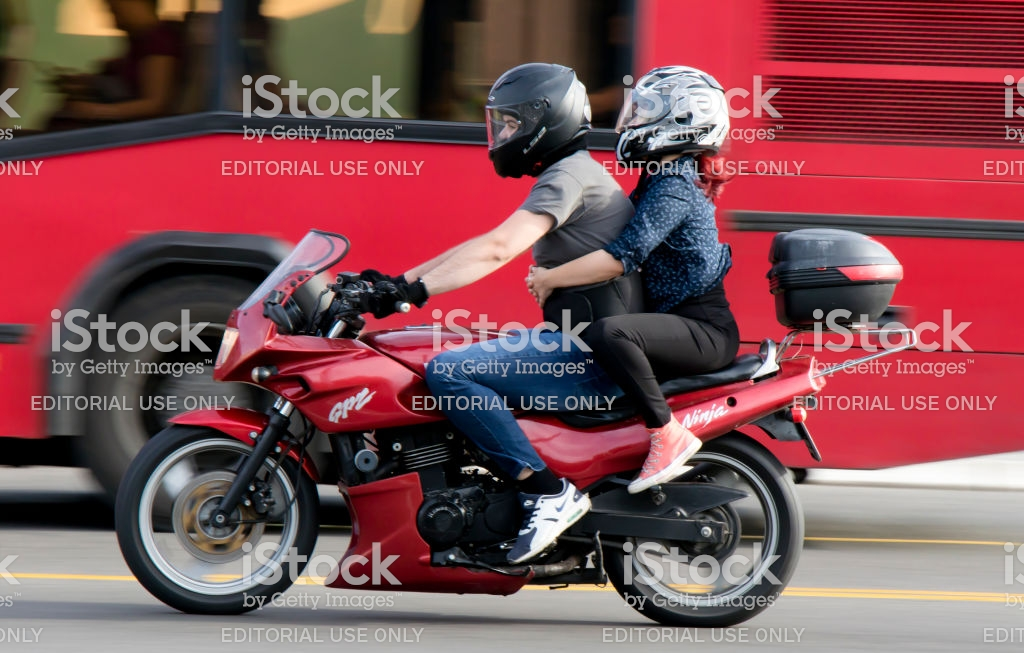helmet: (471, 52, 600, 154), (614, 64, 735, 157)
